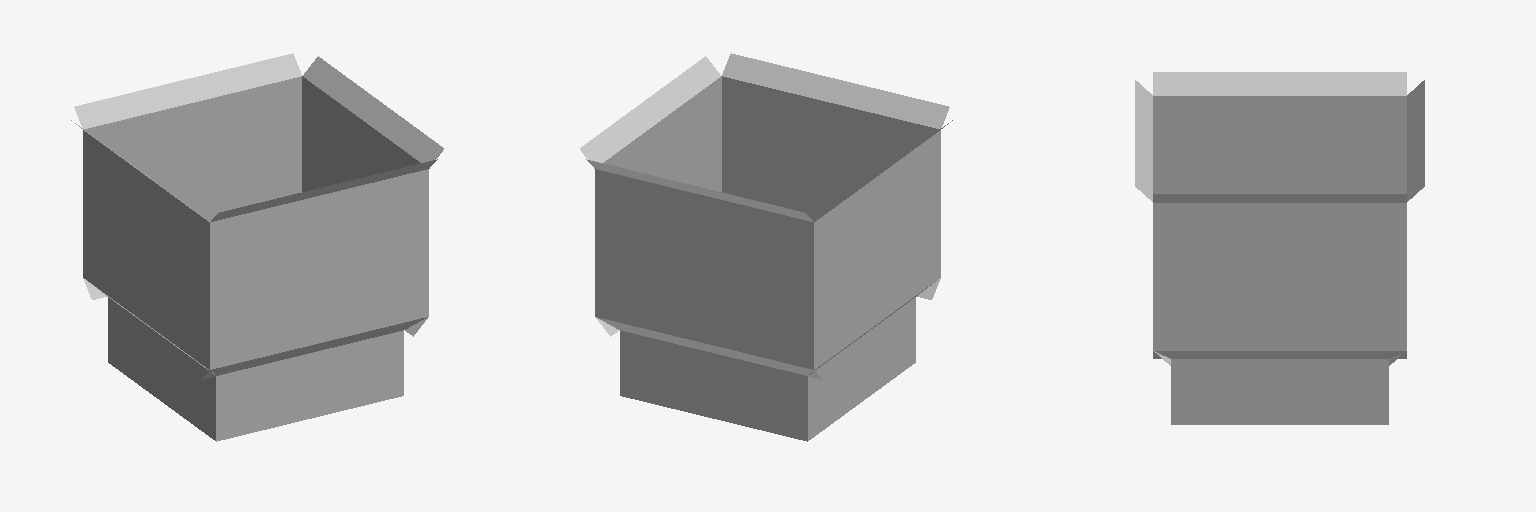
File: blaze_cage.obj
3 views of the same model, side by side, from view 1: azimuth 30°, elevation 25°; view 2: azimuth 150°, elevation 25°; view 3: azimuth 270°, elevation 25° (orthographic).
Parts seen in each view (by area): view 1: cube; view 2: cube; view 3: cube.
Part boxes in pixels (x1,y1,x2,y2): cube: (71,53,443,441); cube: (580,53,952,441); cube: (1135,72,1424,424).
Bounding box in the file's own units: 1 × 0.9375 × 1.